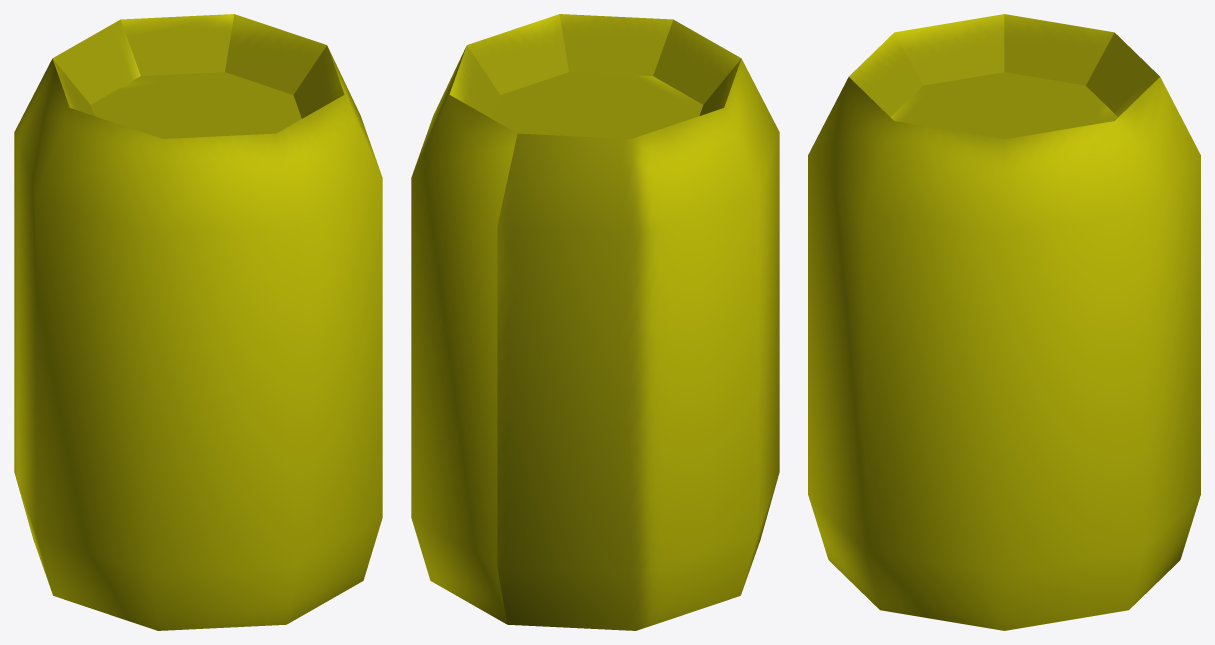
The model's file is bullet_body.FBX.
3 renders of one model, left to right at view 1: azimuth 30°, elevation 25°; view 2: azimuth 150°, elevation 25°; view 3: azimuth 270°, elevation 25°, orthographic.
Visible parts, largest first — view 1: Cylinder001; view 2: Cylinder001; view 3: Cylinder001.
Boxes of the visible parts, <box> form: Cylinder001: <box>14,14,382,630</box>; Cylinder001: <box>411,14,779,630</box>; Cylinder001: <box>808,14,1200,630</box>.
Bounding box in the file's own units: 1.99 × 2.83 × 2.08.
Materials: 1 (1 with a texture image).
